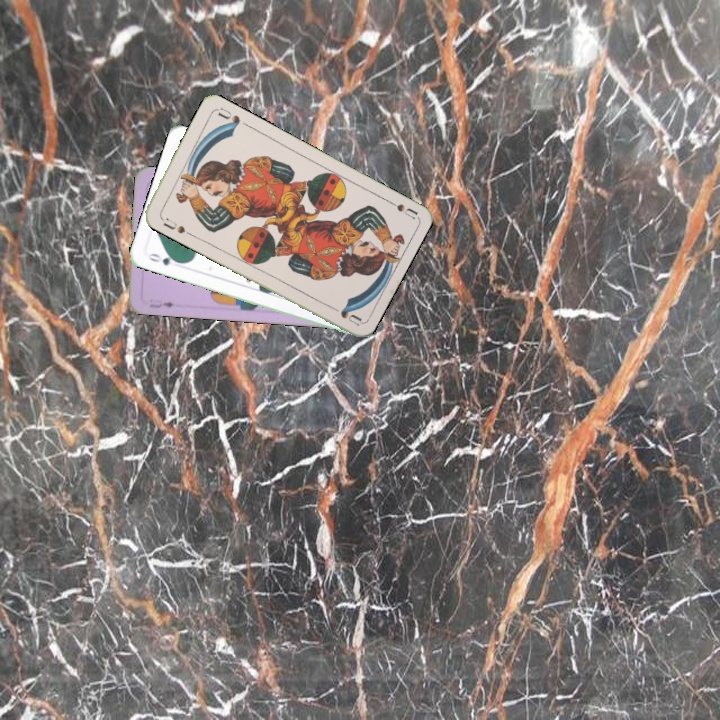EU: (145, 297, 177, 311)
GO: (145, 249, 184, 268)
SU: (380, 194, 420, 221), (159, 214, 188, 236)
